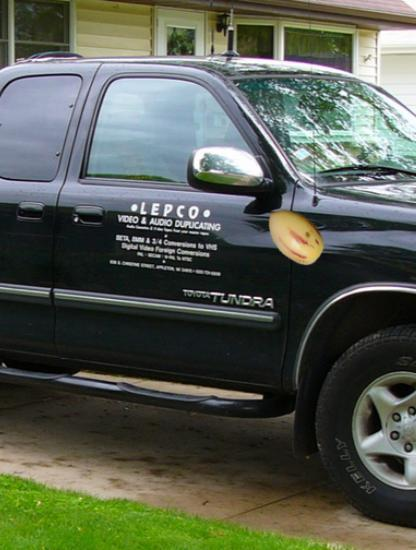Pepino: (263, 202, 330, 269)
